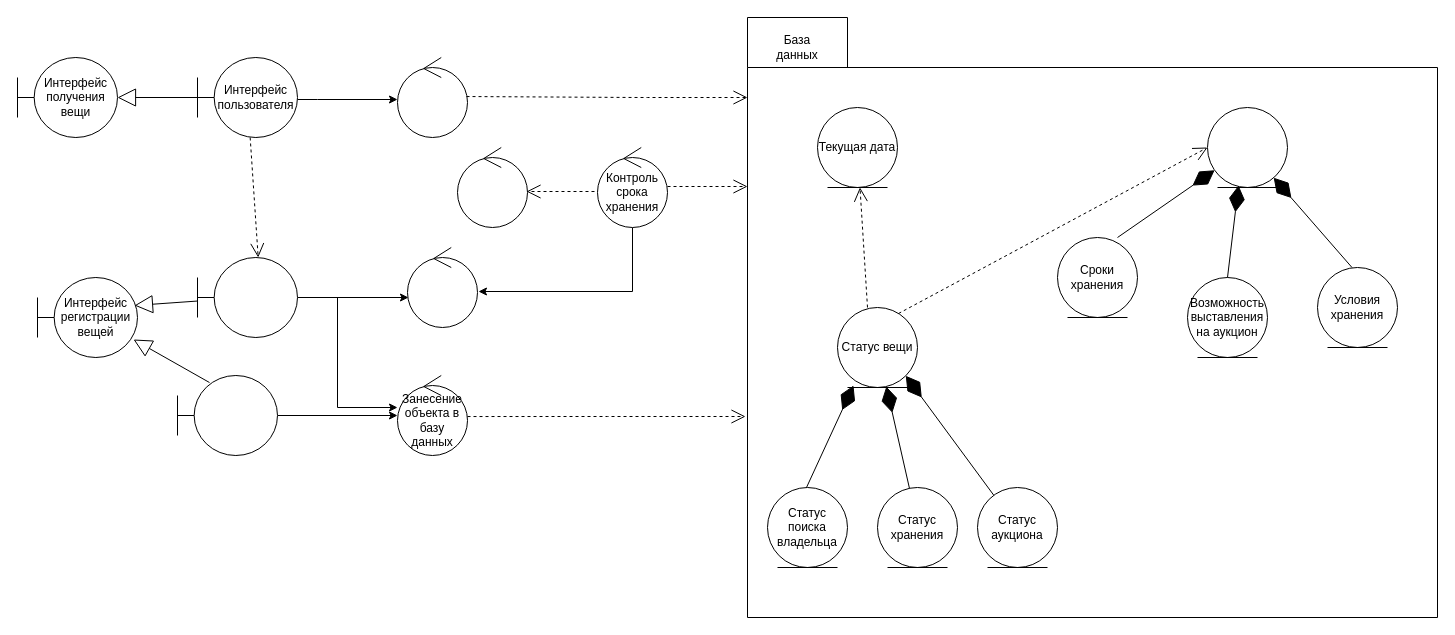
The diagram is 1455 pixels wide and 635 high, and some of its shapes have lost their labels. The centre of each missing label's shape, as x and y in pixels:
Выставление вещи на аукцион: (492,187)
Интерфейс поисковика: (227,415)
Интерфейс сотрудника регистрации: (247,297)
Получение информации об объекте: (432,97)
Тип вещи: (1247,147)
Удаление объекта из базы данных: (442,287)
